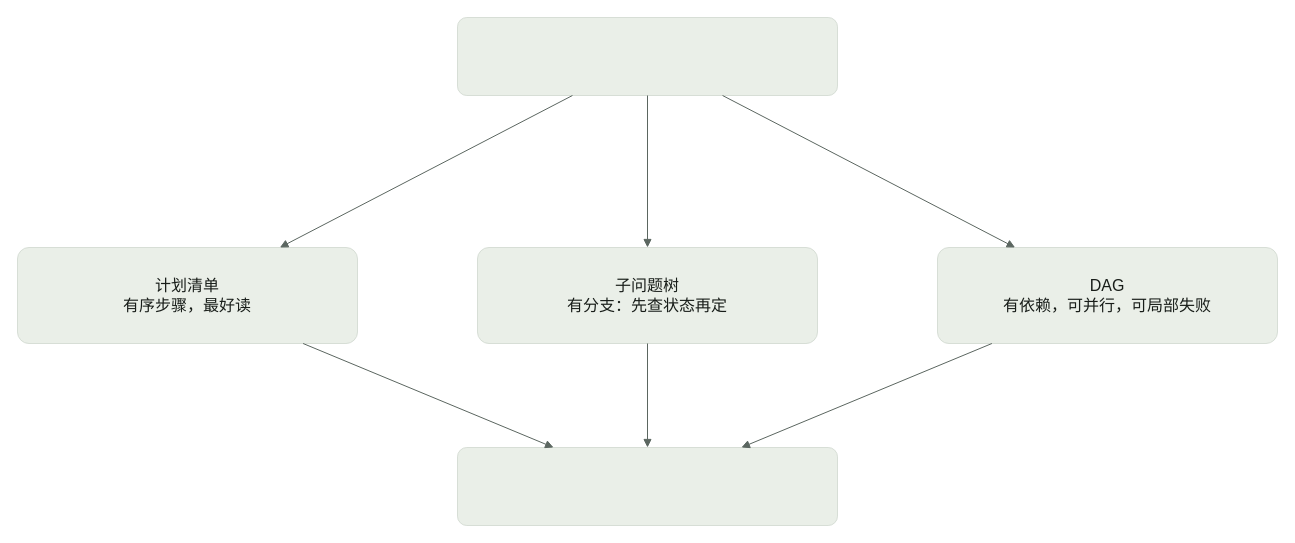
Some shapes in this 1295 by 543 pixel diagram are drawn without their labels. The shapes that lost their labels are listed below. From the top down, each one's centre as x and y in pixels, then its label:
At (647,56): "用户的一句话 「这单为什么还没到」".
At (647,486): "共同前提：这也是模型输出 所以必须过格式校验".
